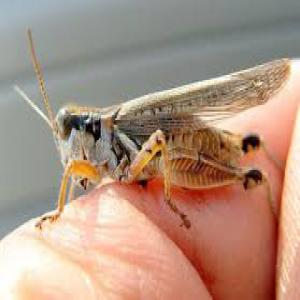locust: (24, 63, 300, 208)
